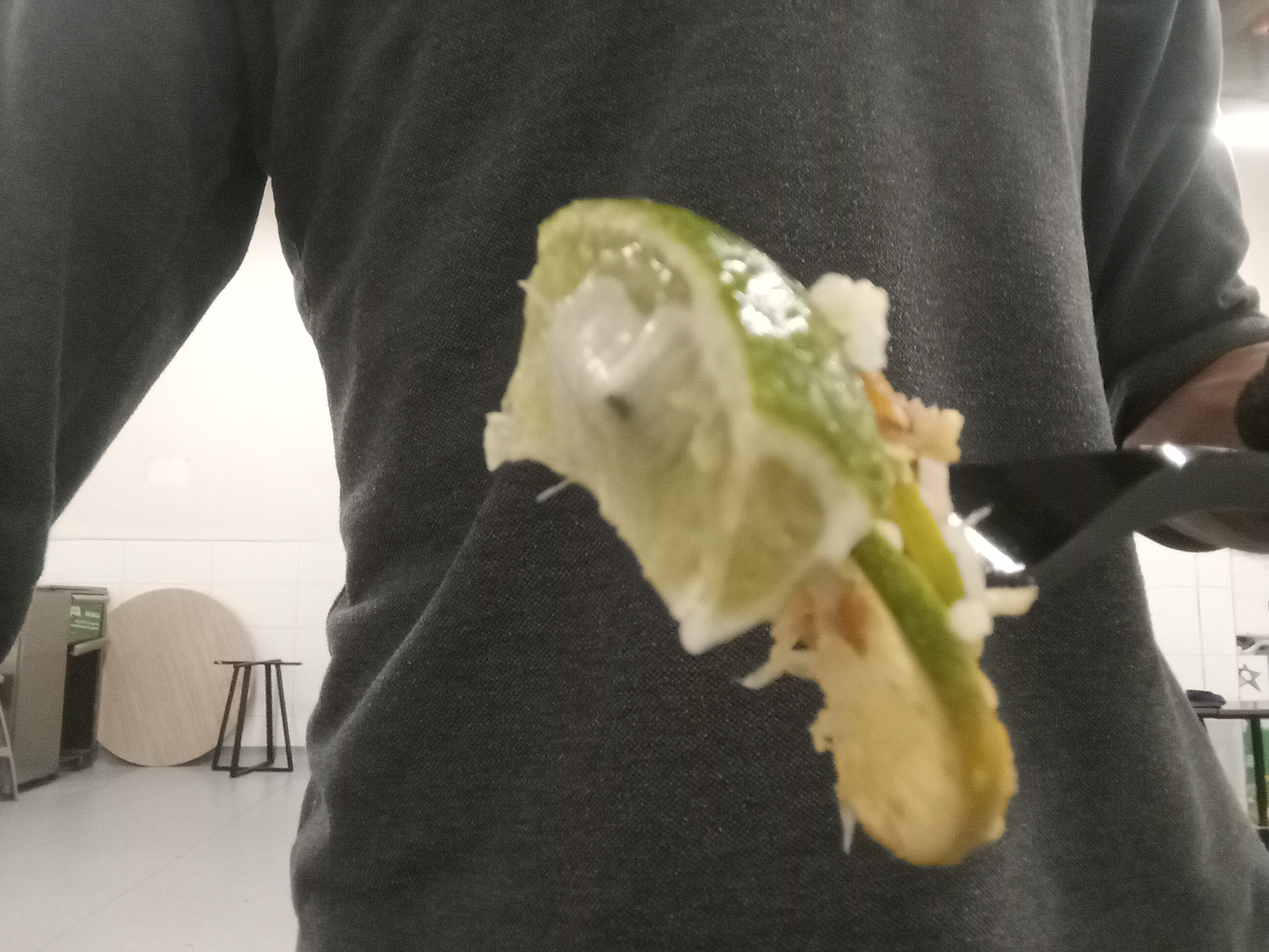Organico: (481, 198, 1015, 863)
